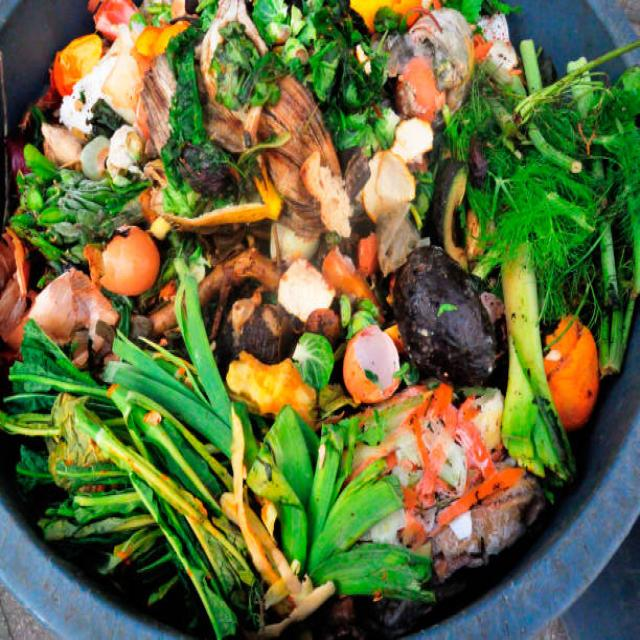paper: (104, 383, 272, 580), (100, 227, 199, 323), (510, 146, 590, 252), (348, 321, 424, 407), (551, 308, 611, 408)
